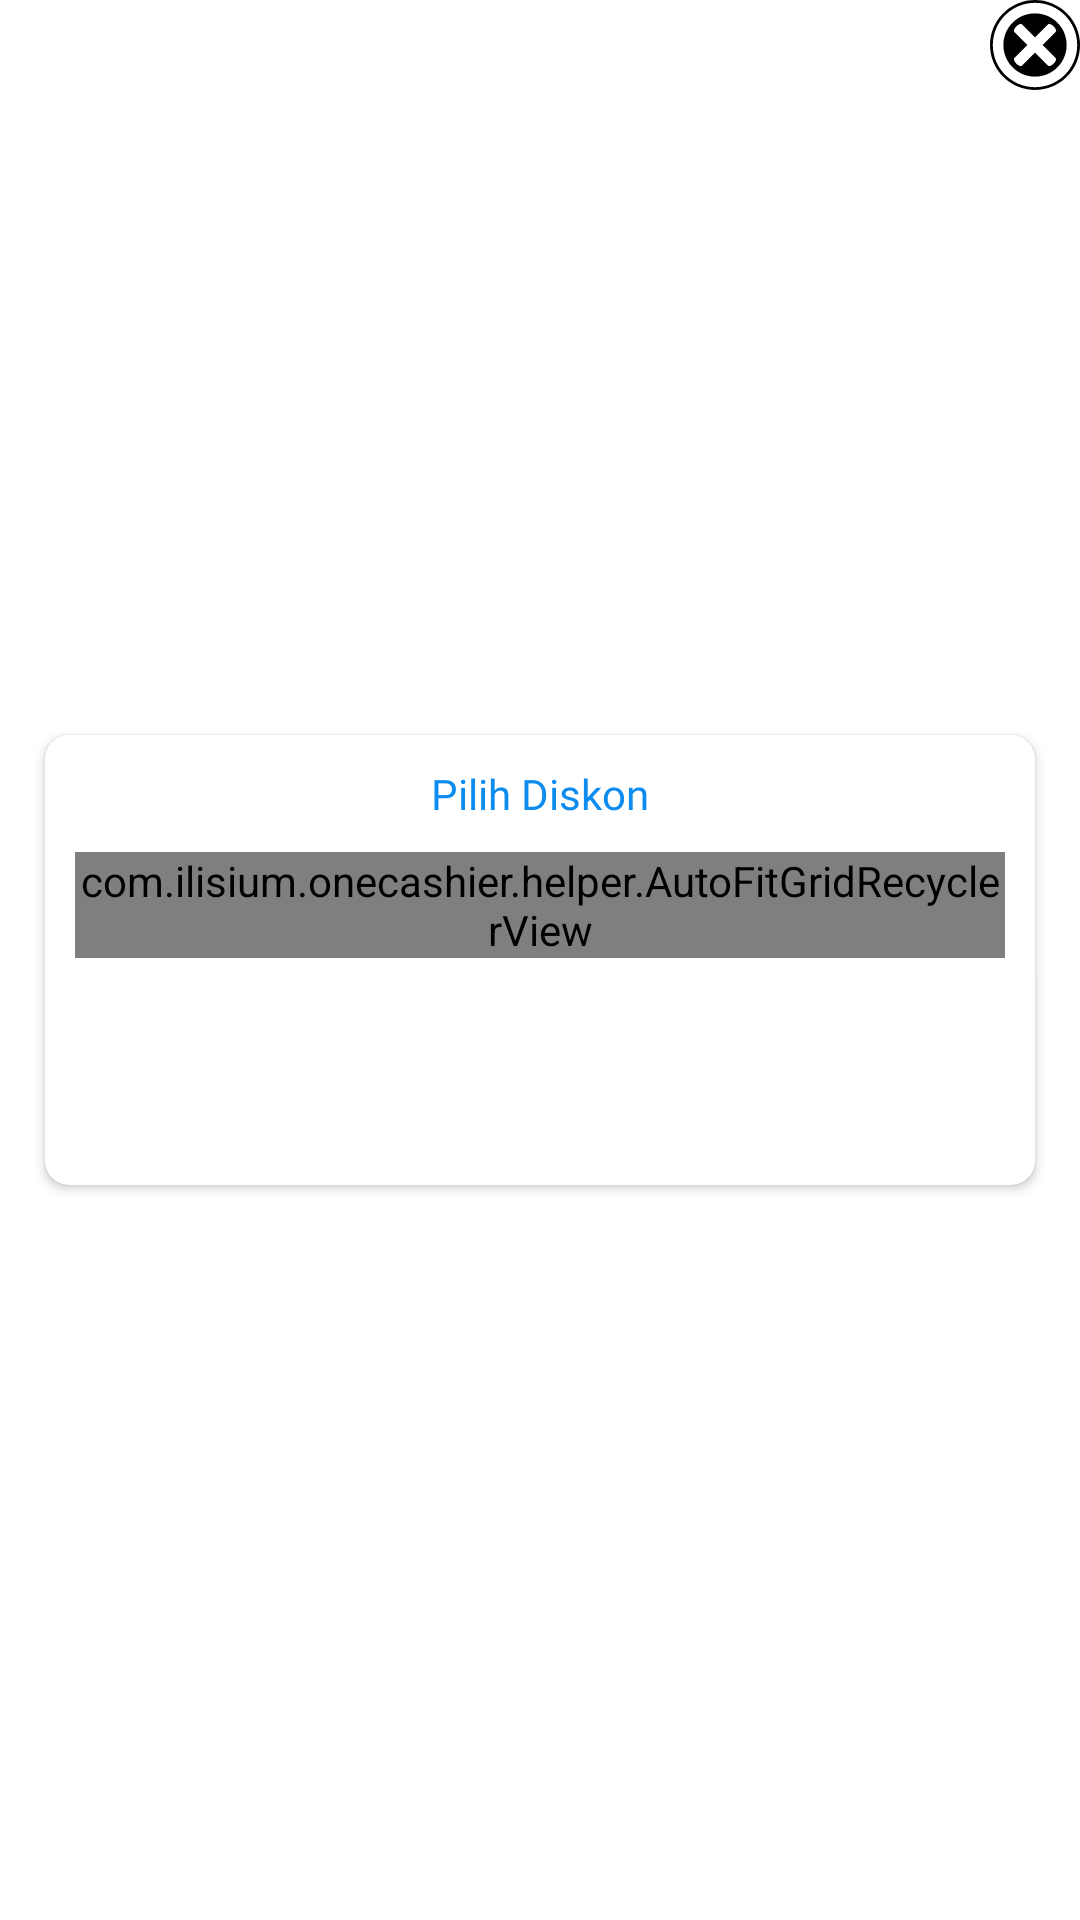

Screen size 1080px x 1920px. Icon name, then its box in pixels as (x1, y1, x2, y2):
cancel circle: (990, 0, 1080, 90)
